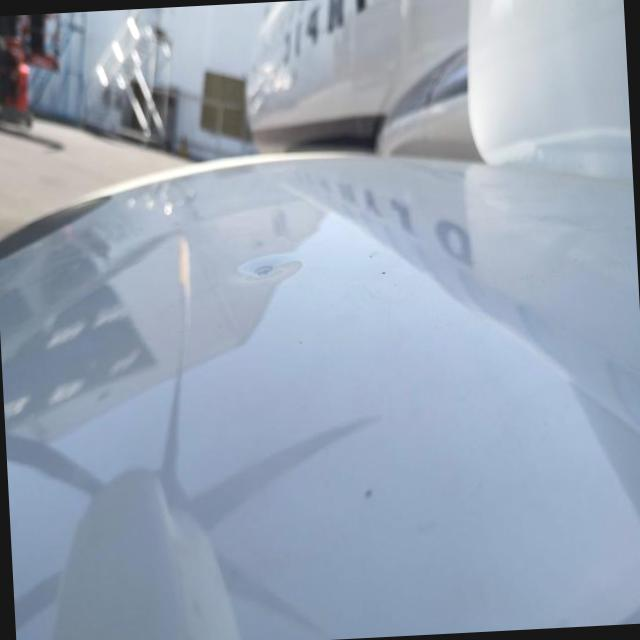dent: (221, 240, 309, 298)
